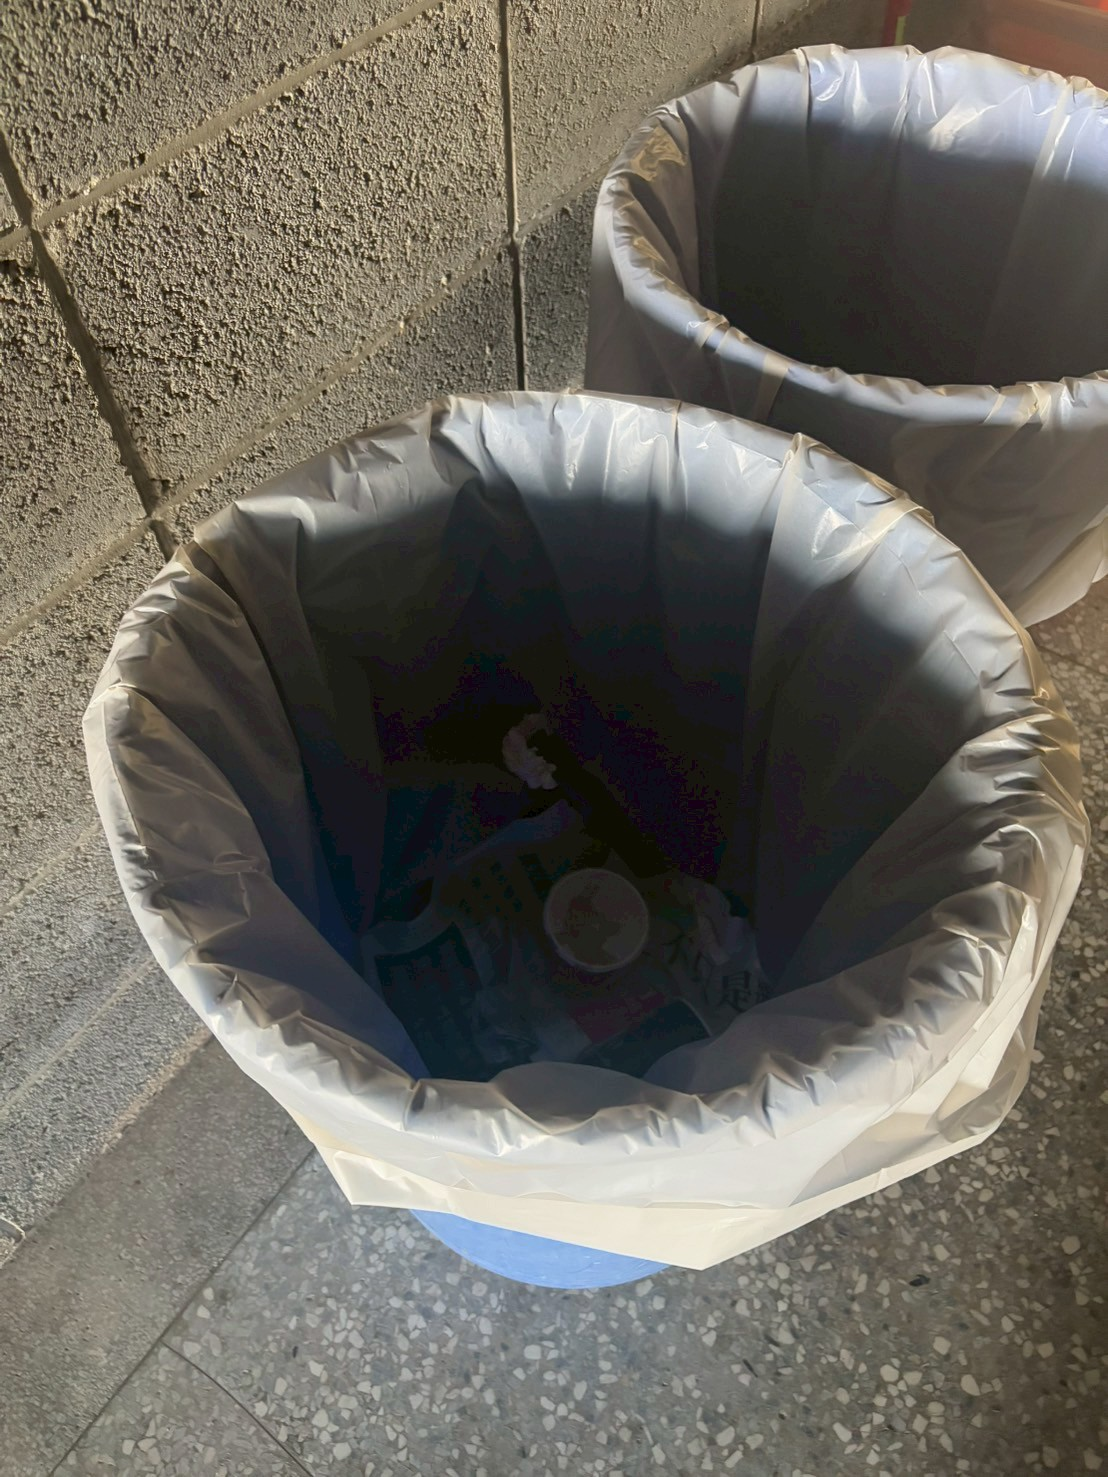normal_bin: (81, 370, 1095, 1304)
